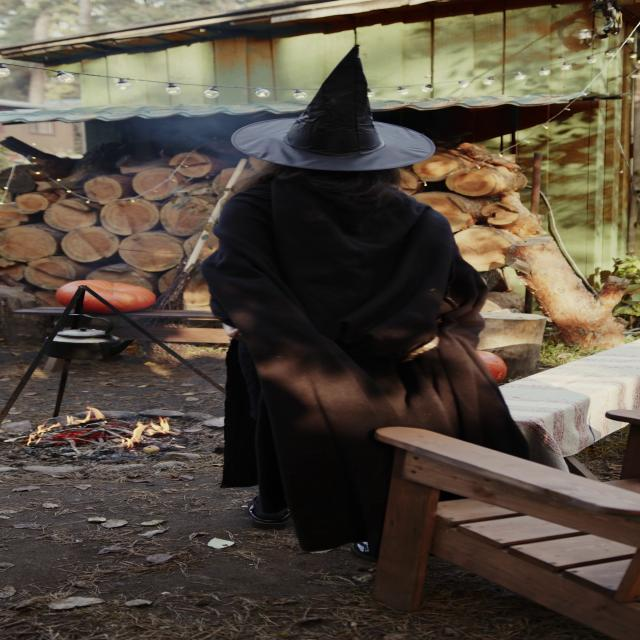Fire: (30, 402, 179, 448)
